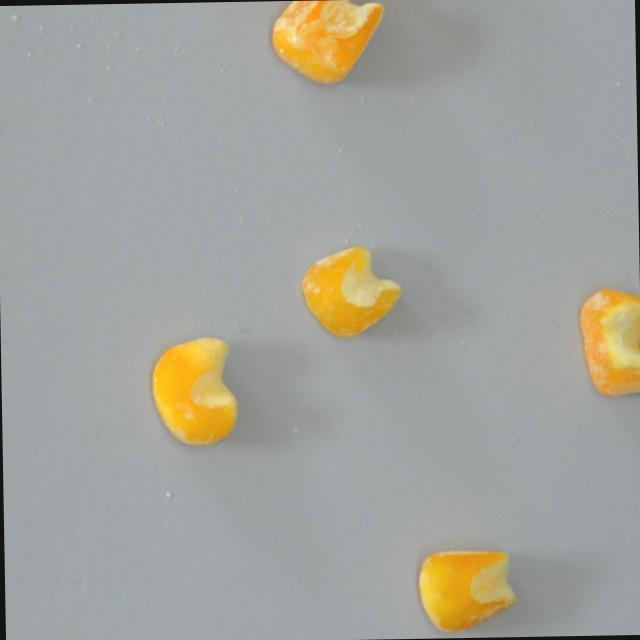dañado: (414, 539, 526, 638), (269, 0, 388, 88)
pelicula: (148, 332, 242, 451), (296, 243, 406, 343), (571, 278, 640, 404)
